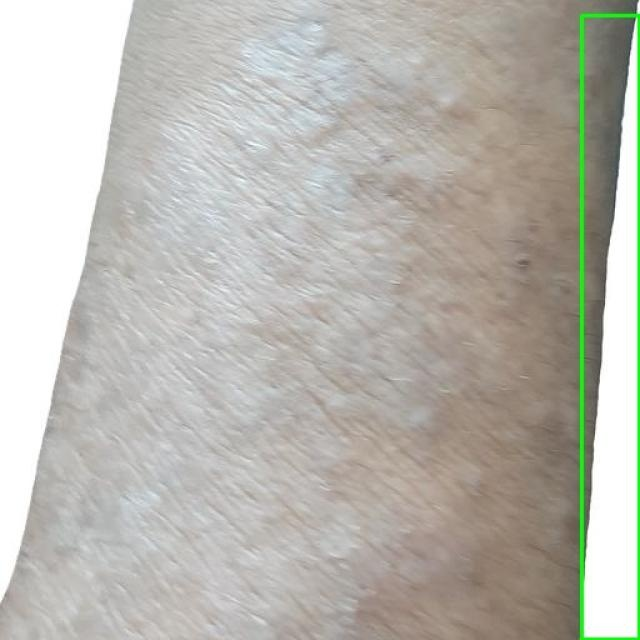Tinea Corporis: (581, 15, 639, 639)
